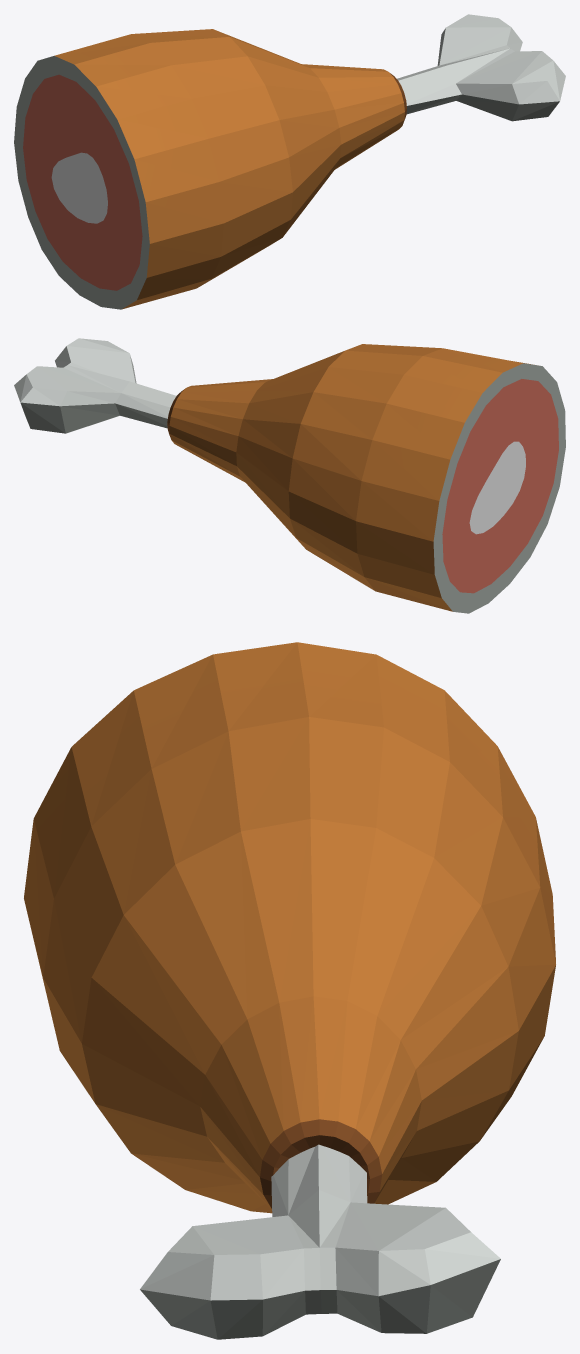
File: Ham.fbx
3 views of the same model, one above another, from view 1: azimuth 30°, elevation 25°; view 2: azimuth 150°, elevation 25°; view 3: azimuth 270°, elevation 25° (orthographic). The views are drawn at different scales.
Visible parts, largest first — view 1: polySurface4; view 2: polySurface4; view 3: polySurface4.
Boxes of the visible parts, bbox=[...] form: polySurface4: bbox=[14, 14, 565, 309]; polySurface4: bbox=[14, 338, 565, 613]; polySurface4: bbox=[24, 642, 555, 1339].
Size of the model in its own units: 55.28 by 26.61 by 27.91.
1 material, 1 textured.
